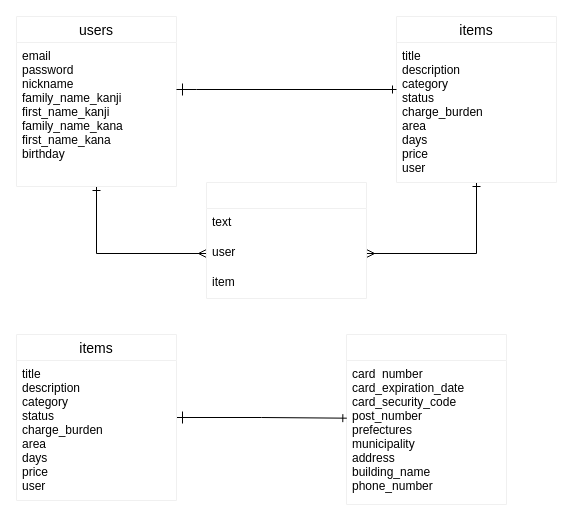
Some shapes in this 573 by 521 pixel diagram are drawn without their labels. Here are the shapes that lost their labels. From the top down, the box of each, then its label:
(206, 182, 366, 298): comments
(346, 334, 506, 504): customers
